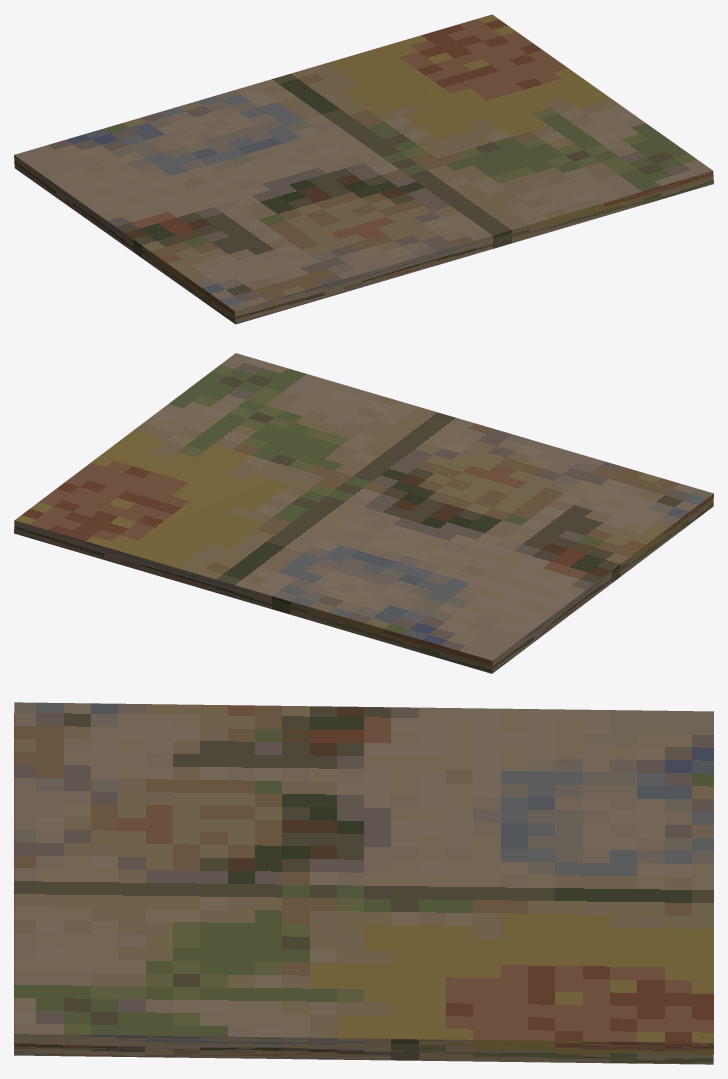
The model's file is prop_paper-2.glb.
3 renders of one model, top to bottom at view 1: azimuth 30°, elevation 25°; view 2: azimuth 150°, elevation 25°; view 3: azimuth 270°, elevation 25°, orthographic. The views are drawn at different scales.
Parts seen in each view (by area): view 1: prop_paper-2; view 2: prop_paper-2; view 3: prop_paper-2.
Part boxes in pixels (left/top/right/bottom): prop_paper-2: left=14, top=14, right=713, bottom=324; prop_paper-2: left=14, top=353, right=713, bottom=673; prop_paper-2: left=14, top=702, right=713, bottom=1064.
Bounding box in the file's own units: 0.1501 × 0.0128 × 0.12.
1 material, 1 textured.
